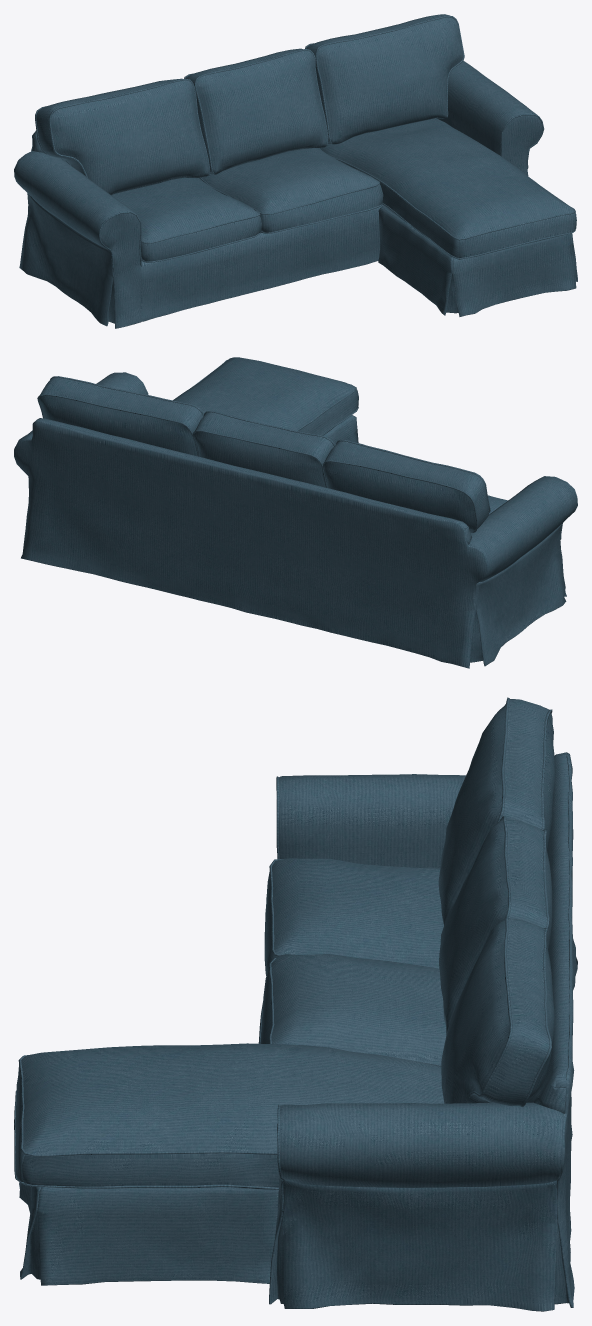
Rendered from 19 - EKTORP 3-seat sofa - with chaise longueTallmyra blue.glb.
The picture shows the model from 3 angles, top to bottom: view 1: azimuth 30°, elevation 25°; view 2: azimuth 150°, elevation 25°; view 3: azimuth 270°, elevation 25°; orthographic projection. The views are drawn at different scales.
Visible parts, largest first — view 1: 19257509_3_seat_sofa:1; view 2: 19257509_3_seat_sofa:1; view 3: 19257509_3_seat_sofa:1.
Part boxes in pixels (box(x1,y1,x2,y2)): 19257509_3_seat_sofa:1: box(14, 14, 577, 328); 19257509_3_seat_sofa:1: box(14, 357, 577, 668); 19257509_3_seat_sofa:1: box(14, 697, 577, 1311).
Bounding box in the file's own units: 2.52 × 0.9016 × 1.65.
2 materials, 1 textured.
